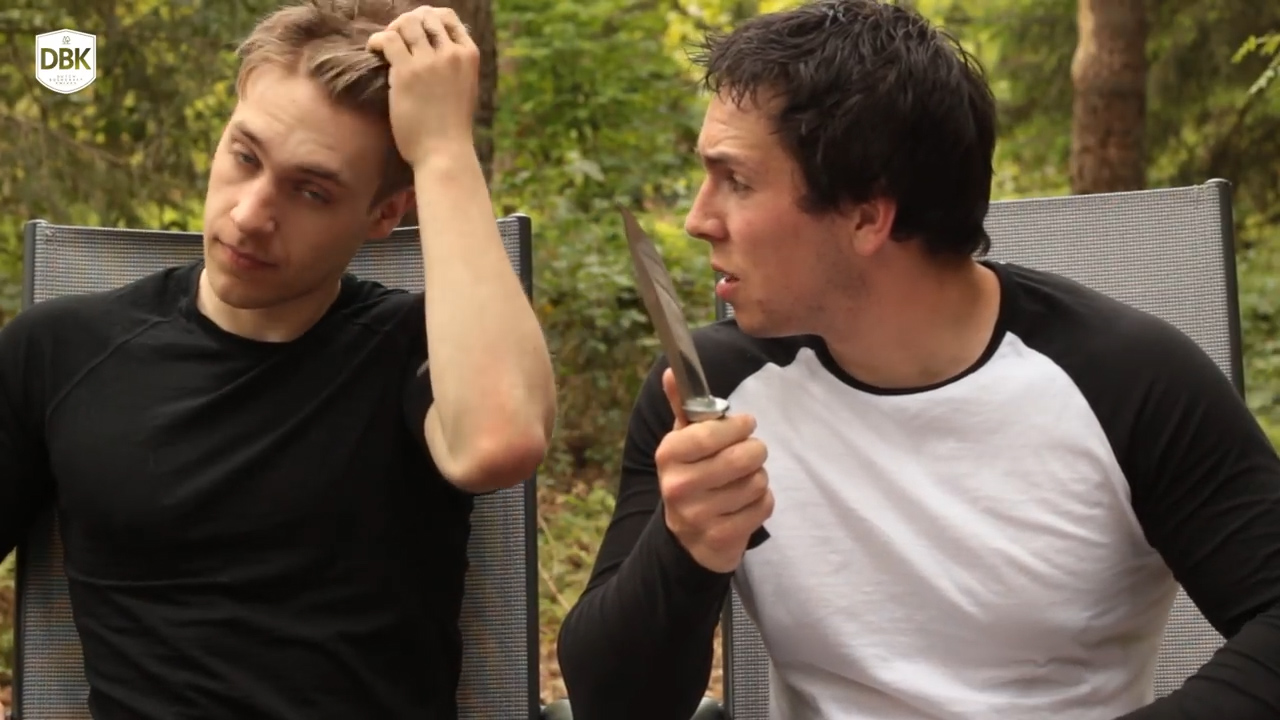knife: (608, 183, 779, 554)
